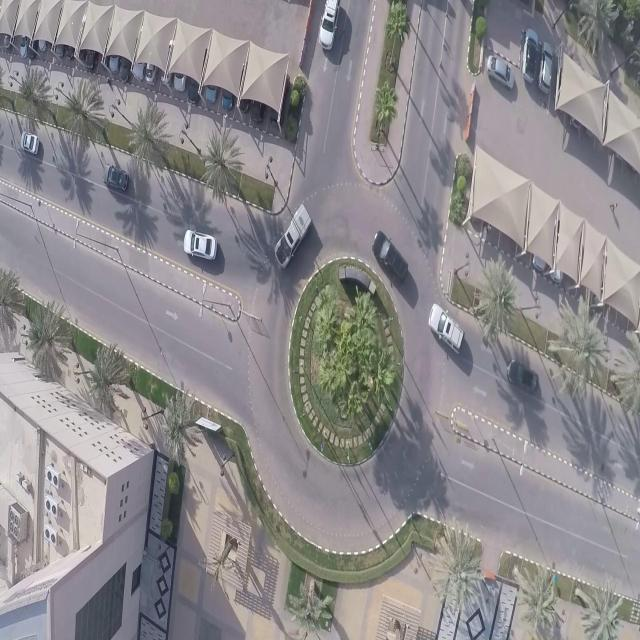car: (274, 205, 312, 270), (428, 303, 463, 355), (377, 232, 408, 284), (183, 227, 218, 266), (507, 357, 539, 398), (486, 50, 516, 91), (318, 0, 340, 52), (520, 26, 539, 85), (269, 75, 286, 126), (103, 164, 129, 195), (250, 74, 266, 123), (540, 42, 554, 95), (133, 35, 146, 82), (221, 65, 234, 111), (85, 27, 98, 70), (146, 40, 158, 86), (174, 50, 187, 92), (161, 42, 172, 88), (20, 130, 38, 156), (188, 64, 200, 103), (120, 38, 130, 84), (206, 67, 218, 104), (239, 74, 250, 114), (109, 34, 120, 72), (27, 21, 37, 59), (55, 19, 64, 59), (38, 19, 48, 52), (20, 24, 28, 58), (66, 29, 74, 60), (4, 20, 12, 51)
